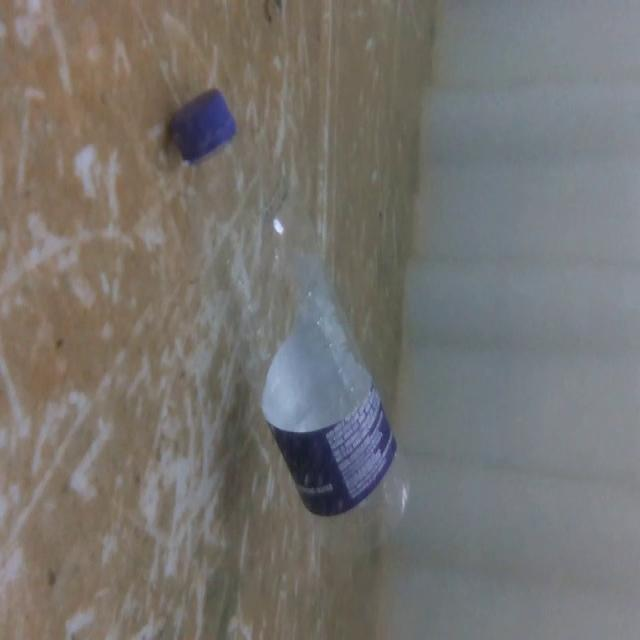plastic bottle: (162, 82, 423, 552)
